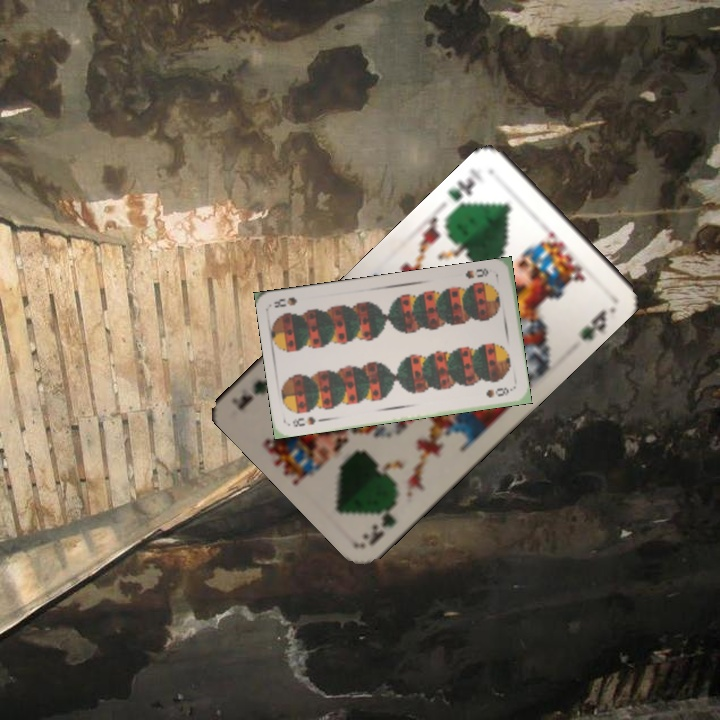GK: (444, 164, 488, 215), (365, 495, 400, 548)
S8: (289, 412, 318, 430), (461, 264, 491, 281)
